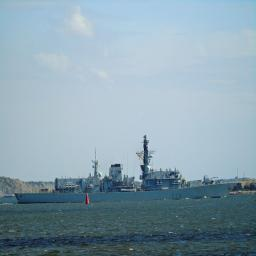Fragata: (14, 132, 241, 207)
